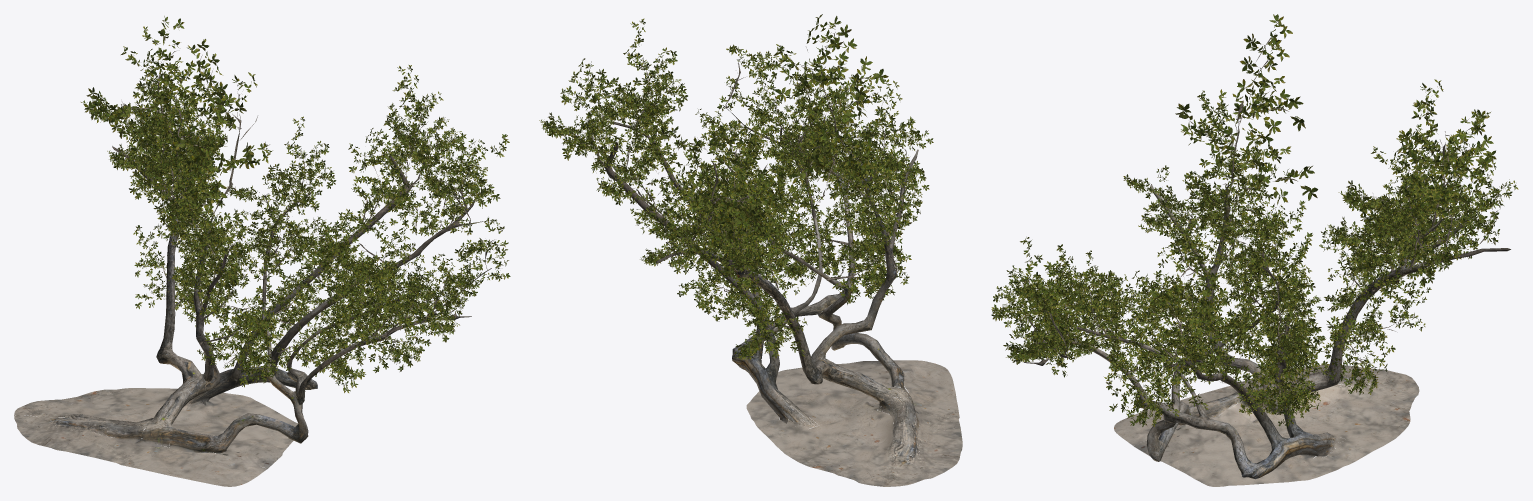
Rendered from island_tree_03.gltf.
3 renders of one model, left to right at view 1: azimuth 30°, elevation 25°; view 2: azimuth 150°, elevation 25°; view 3: azimuth 270°, elevation 25°, orthographic. The views are drawn at different scales.
Parts seen in each view (by area): view 1: island_tree_03_LOD0; view 2: island_tree_03_LOD0; view 3: island_tree_03_LOD0.
Boxes of the visible parts, x1,y1,x2,y2 form: island_tree_03_LOD0: (14,16,510,486); island_tree_03_LOD0: (539,14,962,486); island_tree_03_LOD0: (991,14,1518,486).
Size of the model in its own units: 2.97 by 2.62 by 2.91.
Materials: 3 (3 with a texture image).
